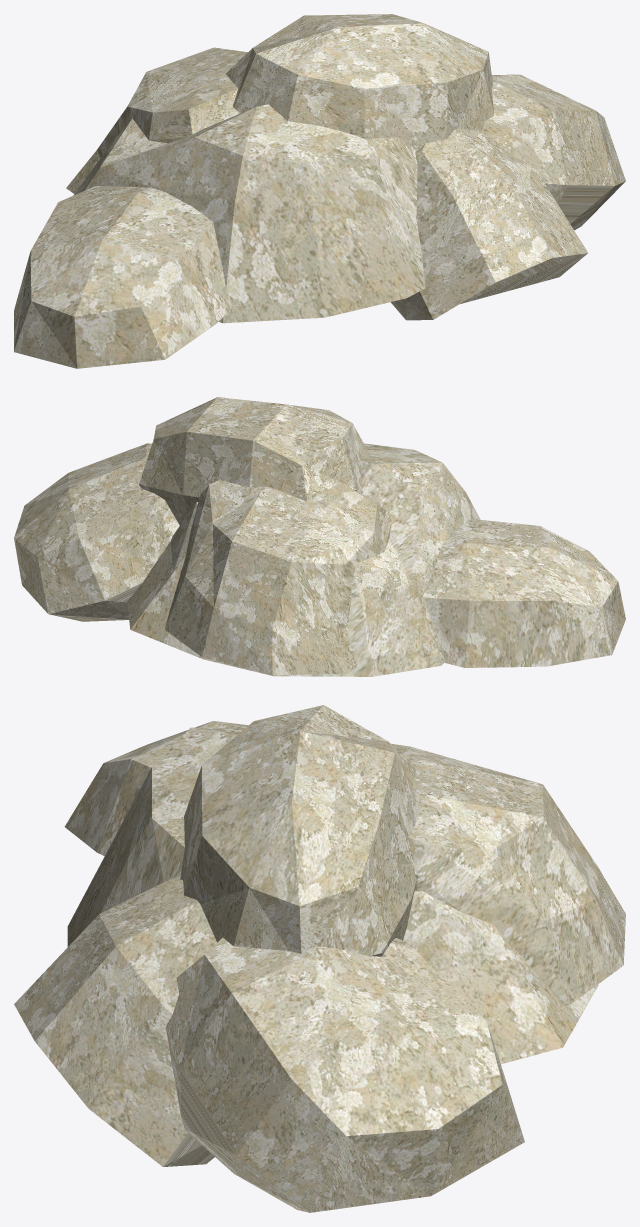
The model's file is rock_formation_a1_l0.fbx.
3 views of the same model, one above another, from view 1: azimuth 30°, elevation 25°; view 2: azimuth 150°, elevation 25°; view 3: azimuth 270°, elevation 25° (orthographic). The views are drawn at different scales.
Visible parts, largest first — view 1: mesh_node; view 2: mesh_node; view 3: mesh_node.
Part boxes in pixels (x1,y1,x2,y2): mesh_node: (14,14,625,368); mesh_node: (14,397,625,676); mesh_node: (14,705,625,1212).
Bounding box in the file's own units: 14.03 × 5.56 × 8.91.
